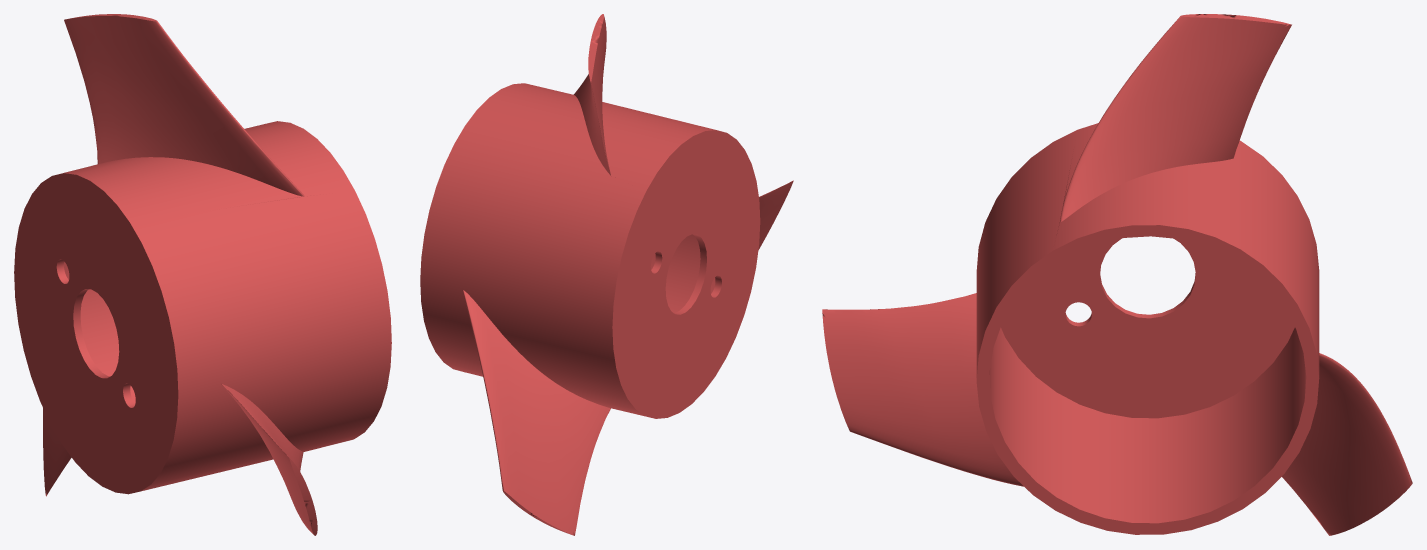
File: VLP.glb
The picture shows the model from 3 angles, left to right: view 1: azimuth 30°, elevation 25°; view 2: azimuth 150°, elevation 25°; view 3: azimuth 270°, elevation 25°; orthographic projection. The views are drawn at different scales.
Parts seen in each view (by area): view 1: CAD_material_0; view 2: CAD_material_0; view 3: CAD_material_0.
Part boxes in pixels (x1,y1,x2,y2): CAD_material_0: (14, 14, 391, 535); CAD_material_0: (420, 14, 793, 535); CAD_material_0: (822, 14, 1412, 535).
Bounding box in the file's own units: 0.03 × 0.0696 × 0.0689.
